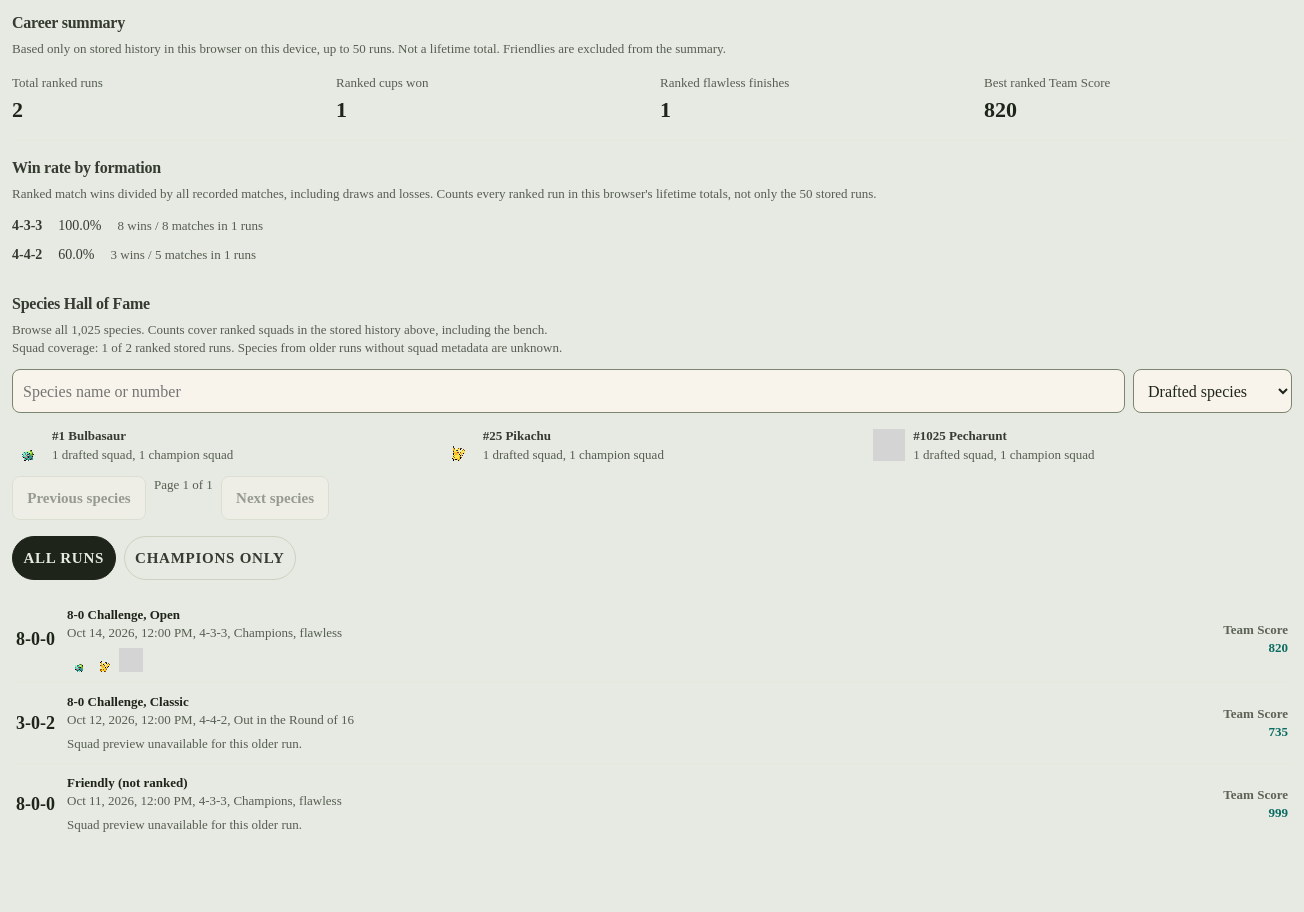
Test: shows match win rate by formation and all species with honest missing-history coverage
Expected: the element "Win rate by formation" shows "4-3-3", 12,218 -> 42,233
Expected: the element "Win rate by formation" shows "100.0%", 58,218 -> 102,233
In the search field named "Find a Hall of Fame species": (568, 391) 12,369 -> 1125,413, type "Pecharunt"
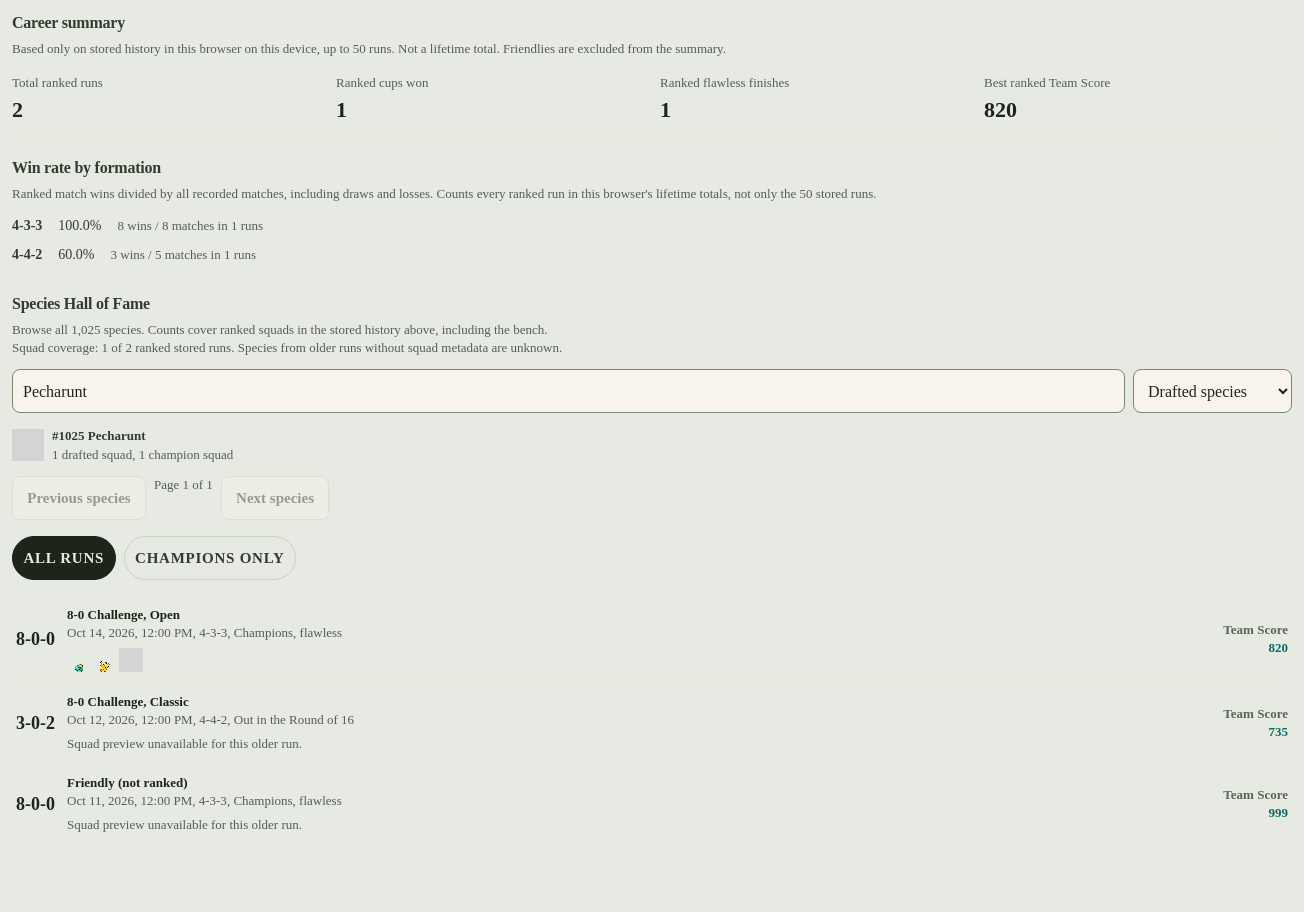
Expected: the element "Species Hall of Fame" shows "Pecharunt", 88,428 -> 146,443
Expected: the element "Species Hall of Fame" shows "1 drafted squad", 52,447 -> 233,462
Replace the text in the search field named "Find a Hall of Fame species" with "Ivysaur": (568, 391) 12,369 -> 1125,413
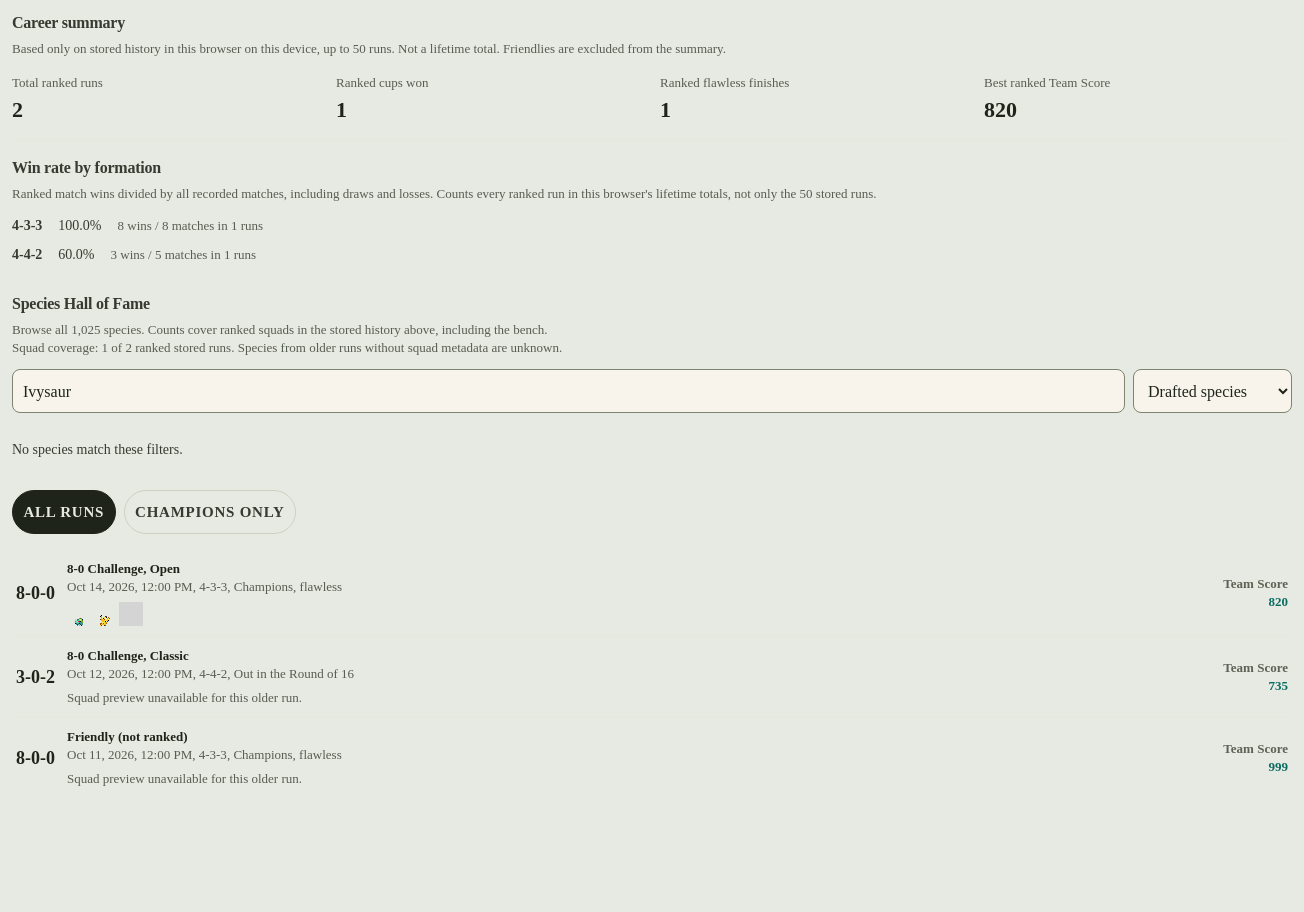
Expected: the element "Species Hall of Fame" shows "No species match these filters.", 12,442 -> 183,457
Select "All species" in the dropdown named "Filter Hall of Fame species": (1212, 391) 1133,369 -> 1292,413
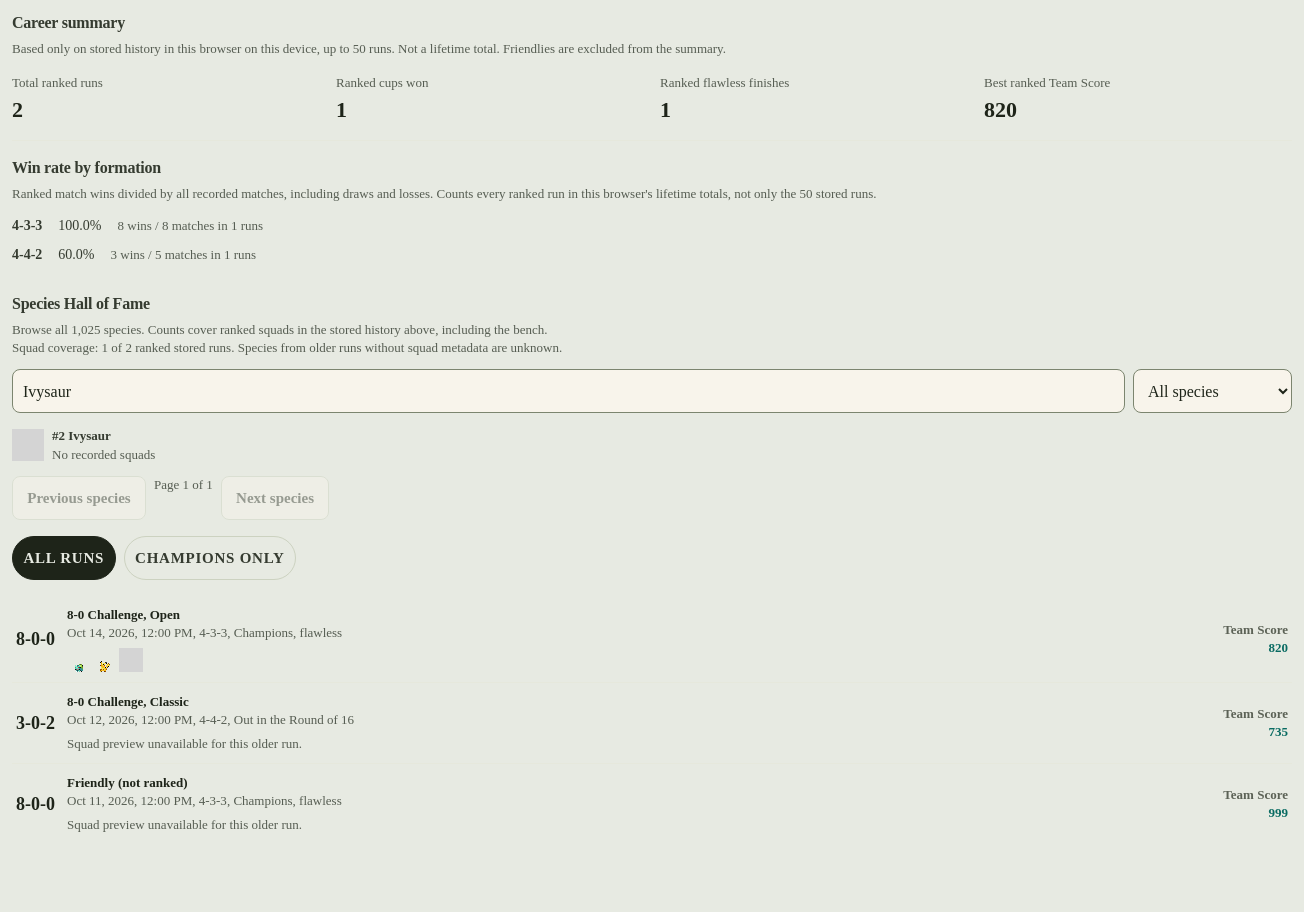
Expected: the element "Species Hall of Fame" shows "No recorded squads", 52,447 -> 155,462
